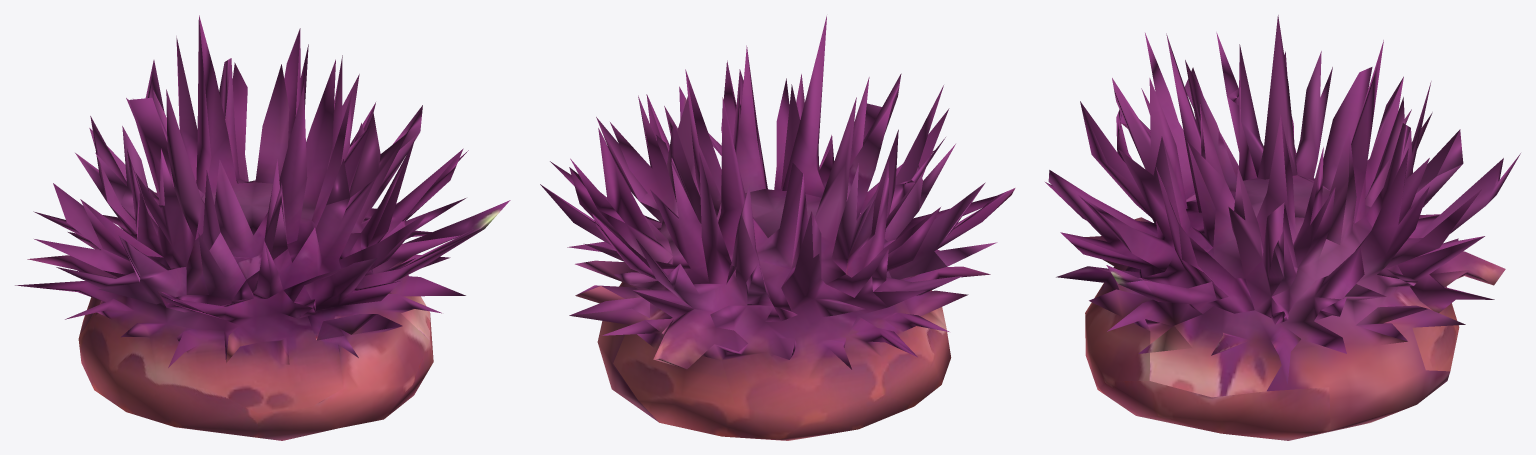
File: coral-anemone.glb
3 views of the same model, side by side, from view 1: azimuth 30°, elevation 25°; view 2: azimuth 150°, elevation 25°; view 3: azimuth 270°, elevation 25° (orthographic). The views are drawn at different scales.
Parts seen in each view (by area): view 1: Mesh_0; view 2: Mesh_0; view 3: Mesh_0.
Boxes of the visible parts, <box> form: Mesh_0: <box>15,15,510,440</box>; Mesh_0: <box>540,16,1015,440</box>; Mesh_0: <box>1045,15,1520,440</box>.
Bounding box in the file's own units: 1.6 × 1.23 × 1.54.
Materials: 1 (1 with a texture image).
